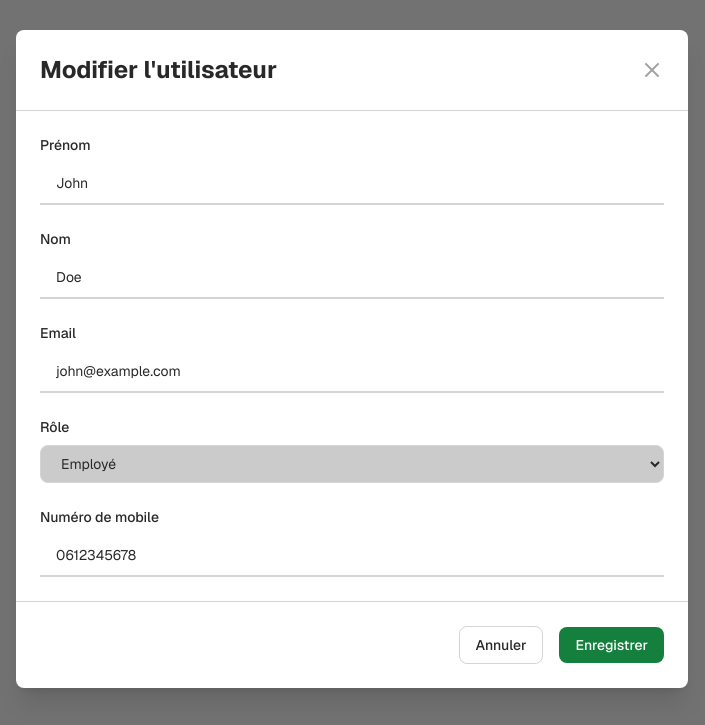
Test: EditUserModal › Form Validation › should show error for invalid mobile
This screenshot has width=705, height=725.
Replace the text in the field labelled "Numéro de mobile" with "123" at point(352, 556), box [40,535,664,577]
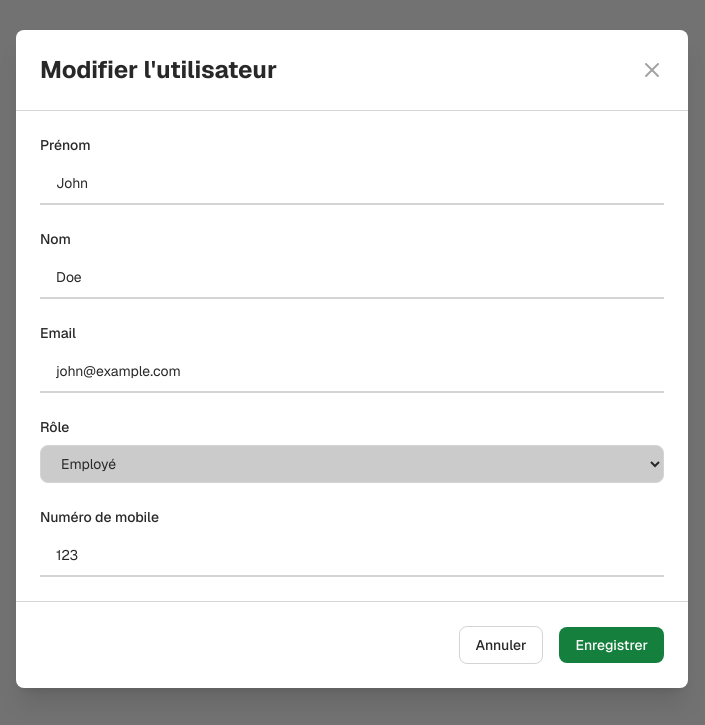
Click the button "Enregistrer".
click(612, 645)  # box [560,627,664,663]
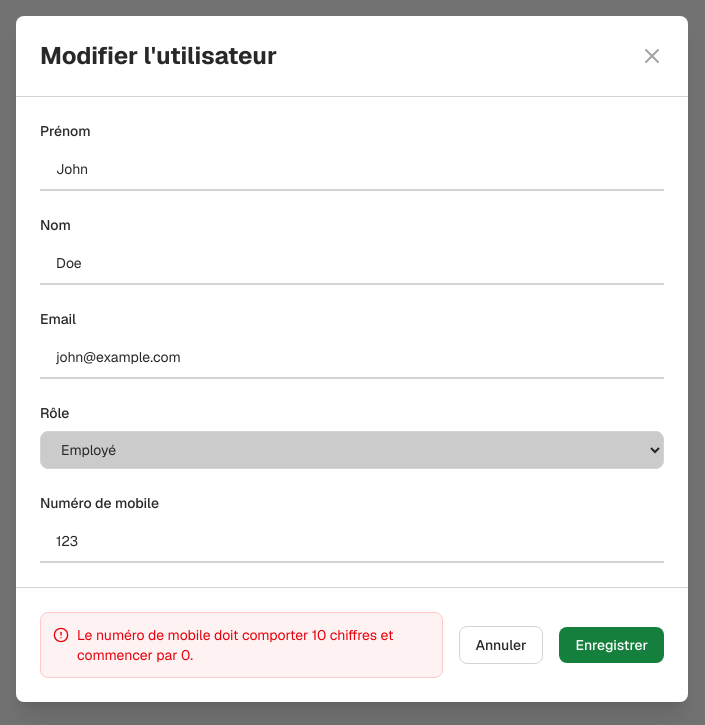
Now the text "Le numéro de mobile doit comporter 10 chiffres et commencer par 0." is shown, box [77,625,430,665]
